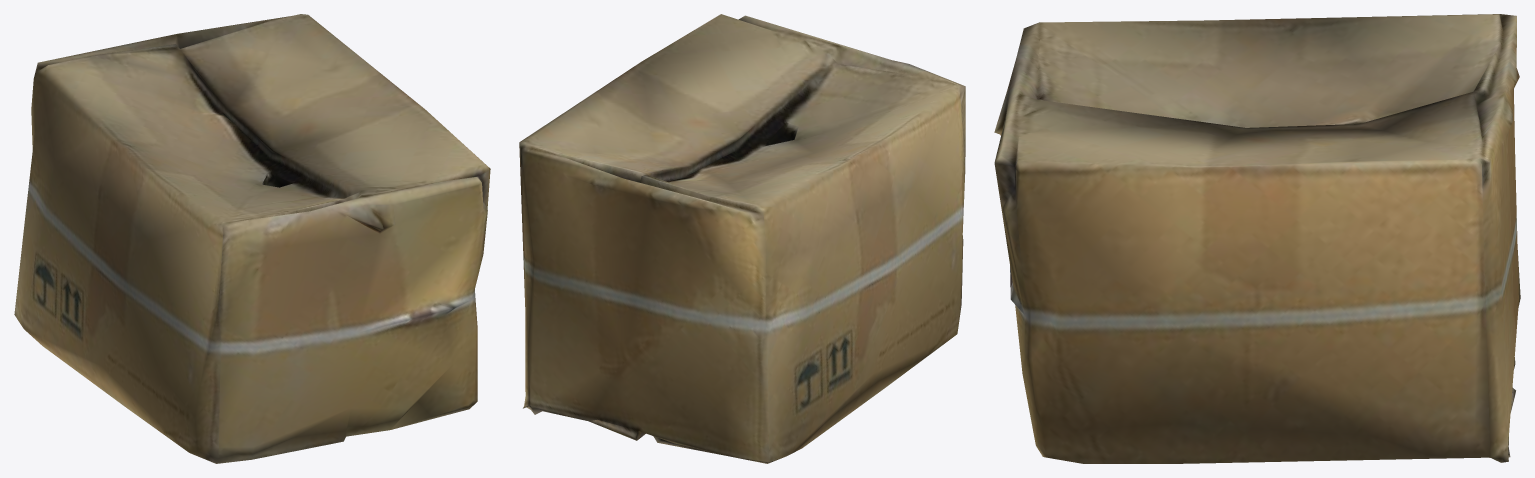
The model's file is cardboard_box_01.glb.
3 views of the same model, side by side, from view 1: azimuth 30°, elevation 25°; view 2: azimuth 150°, elevation 25°; view 3: azimuth 270°, elevation 25° (orthographic). The views are drawn at different scales.
Visible parts, largest first — view 1: cardboard_box_01; view 2: cardboard_box_01; view 3: cardboard_box_01.
Boxes of the visible parts, x1,y1,x2,y2 form: cardboard_box_01: (14, 14, 490, 463); cardboard_box_01: (519, 14, 965, 463); cardboard_box_01: (994, 14, 1520, 463).
Bounding box in the file's own units: 0.3829 × 0.3403 × 0.5152.
1 material, 1 textured.
